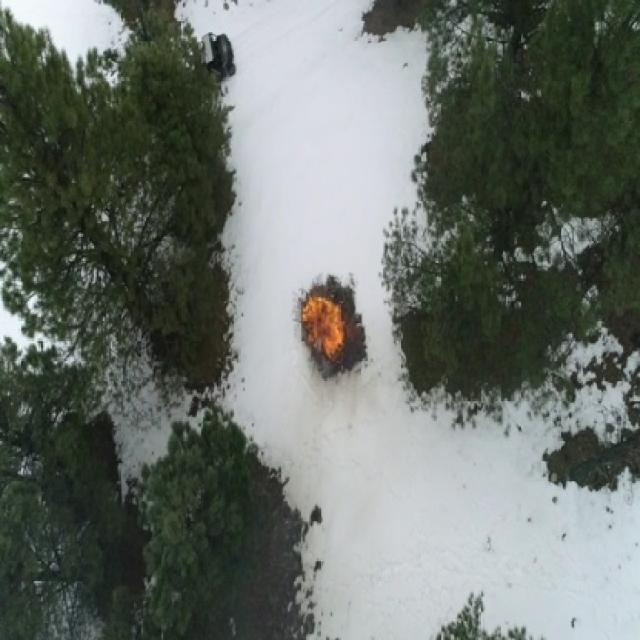Fire: (298, 294, 349, 360)
